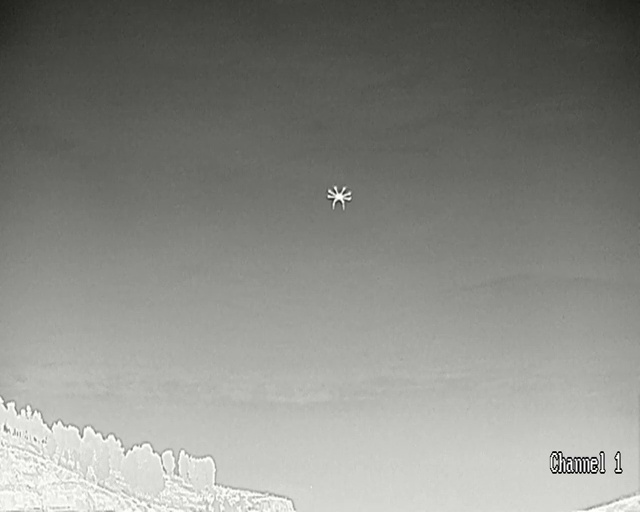uav: (327, 185, 351, 209)
